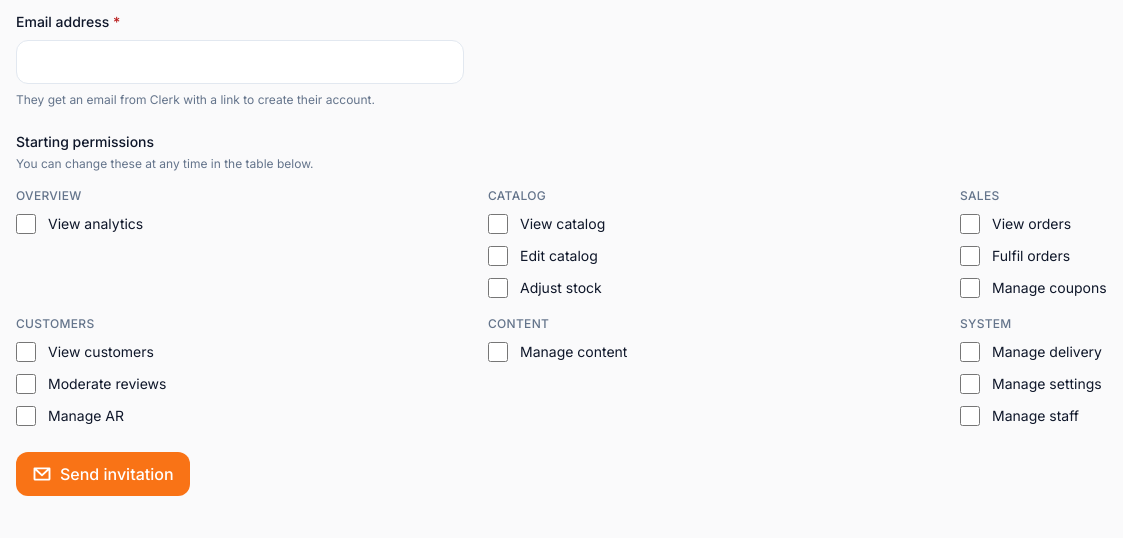
StaffInviteForm › starts with no permissions ticked and submits every ticked permission
The width and height of the screenshot is (1123, 538).
In the field labelled "Email address *": (240, 62) [16,40,464,84], type "new@example.com"
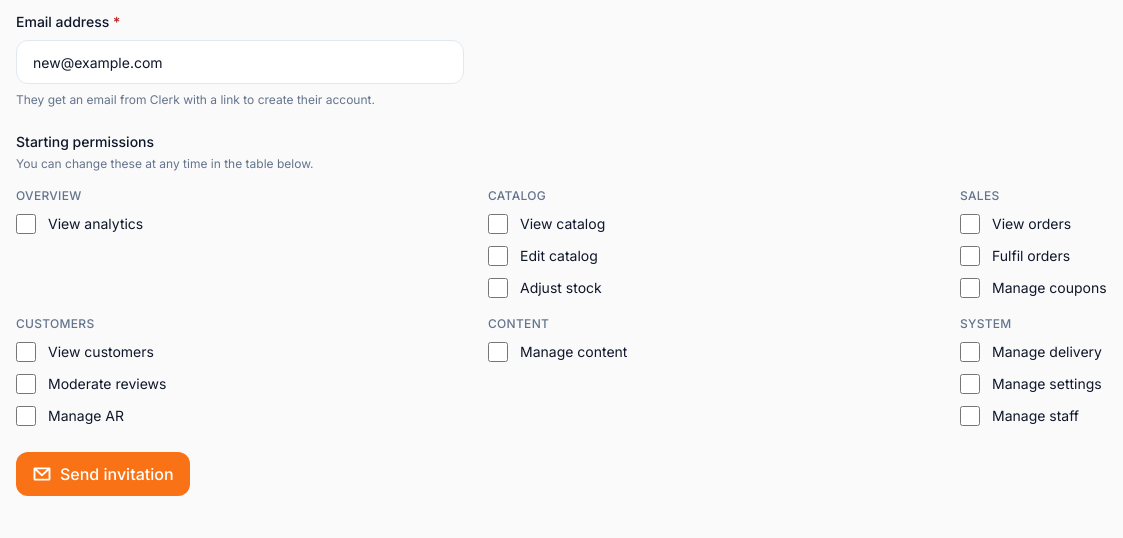
Click the checkbox labelled "View orders": (970, 224) [960,214,980,234]
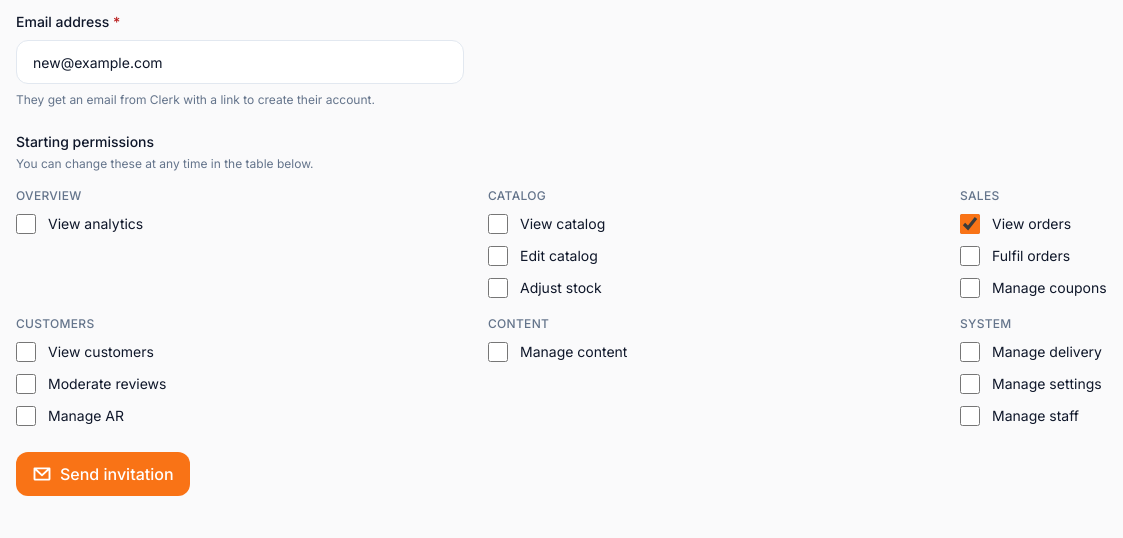
Click the checkbox labelled "Fulfil orders": (970, 256) [960,246,980,266]
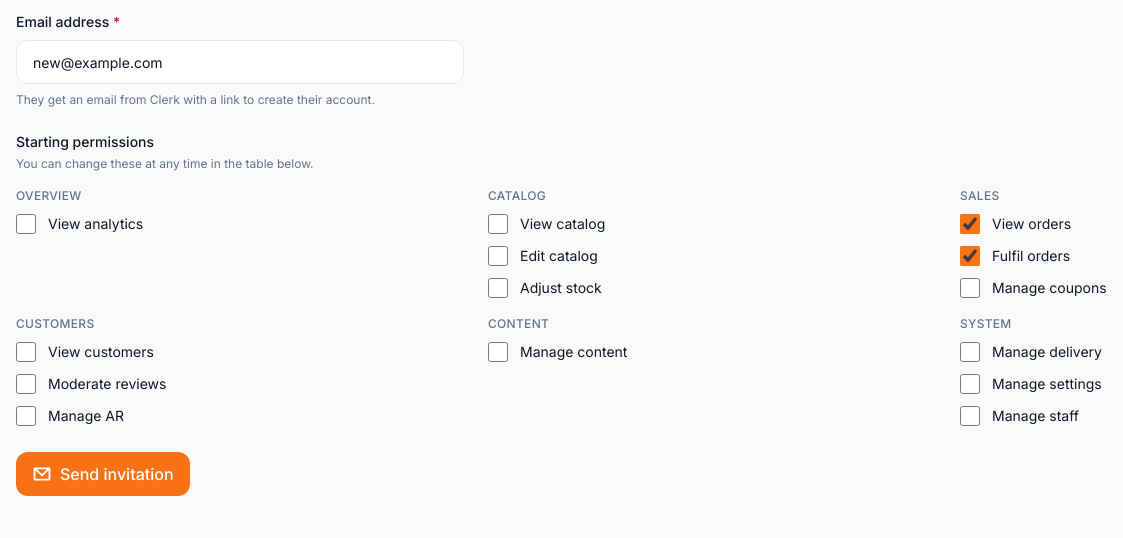
Click the button "Send invitation": (103, 474) [16,452,190,496]
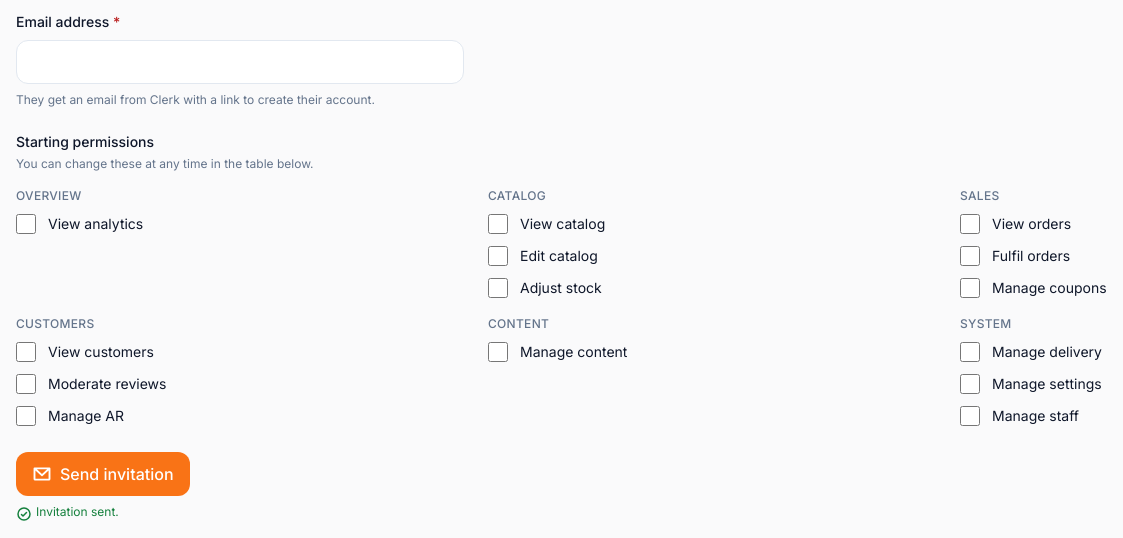
Expected: the checkbox labelled "View orders" is not checked, [960,214,980,234]
Expected: the message reads "Invitation sent.", [36,504,119,519]
Expected: the field labelled "Email address *" is empty, [16,40,464,84]
